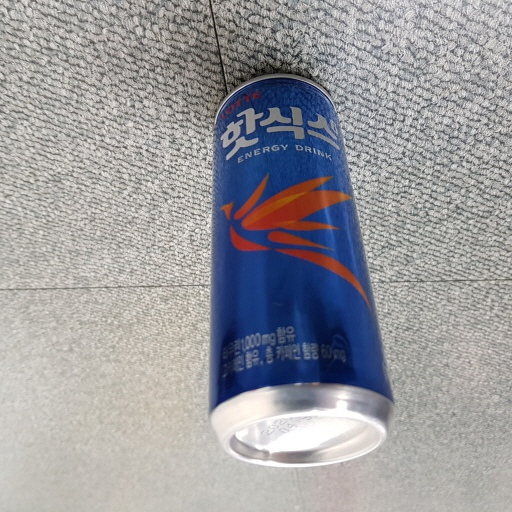Metal_0: (198, 72, 394, 468)
